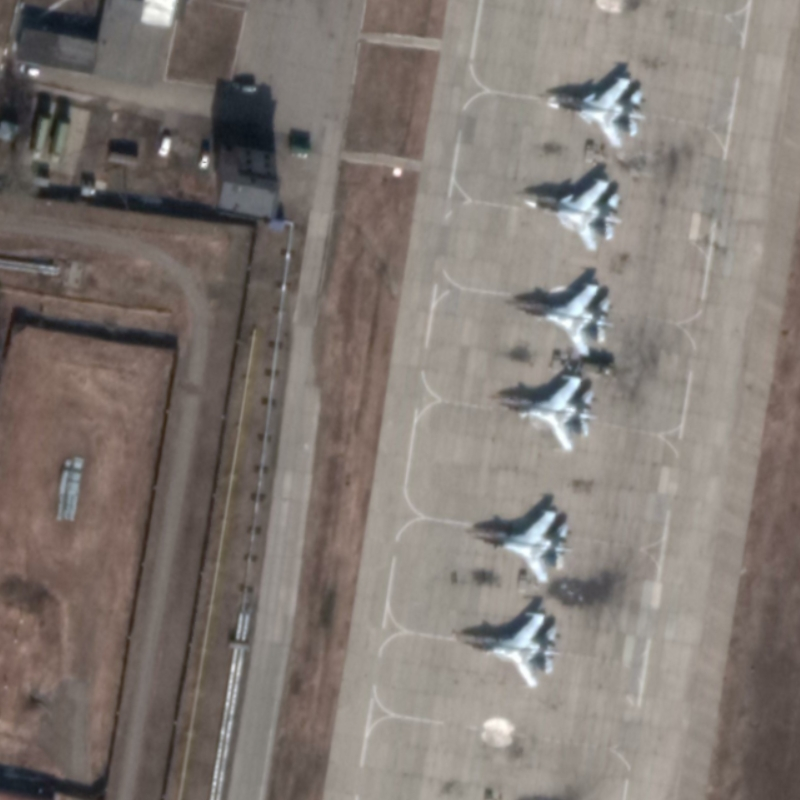A1: (501, 372, 599, 454), (467, 609, 562, 692), (475, 507, 573, 583), (523, 282, 614, 360)
A19: (524, 176, 625, 253), (544, 75, 647, 149)
